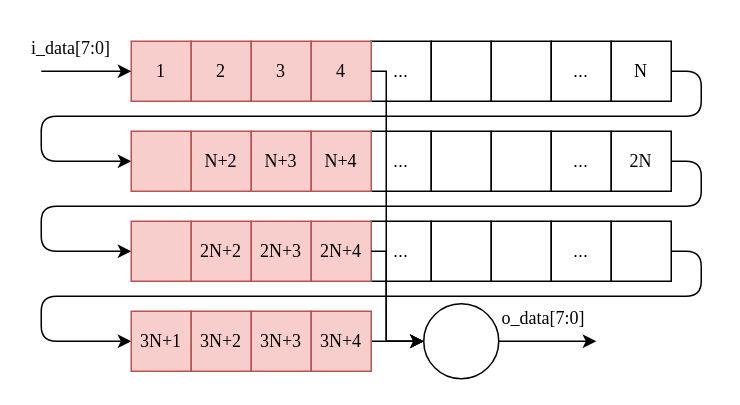
Some shapes in this 740 by 405 pixel diagram are drawn without their labels. The shapes that lost their labels are listed below. From the top down, each one's centre as x and y in pixels, then its label:
At (160,160): "N+1".
At (160,250): "2N+1".
At (640,250): "3N".
At (460,340): "Process".
